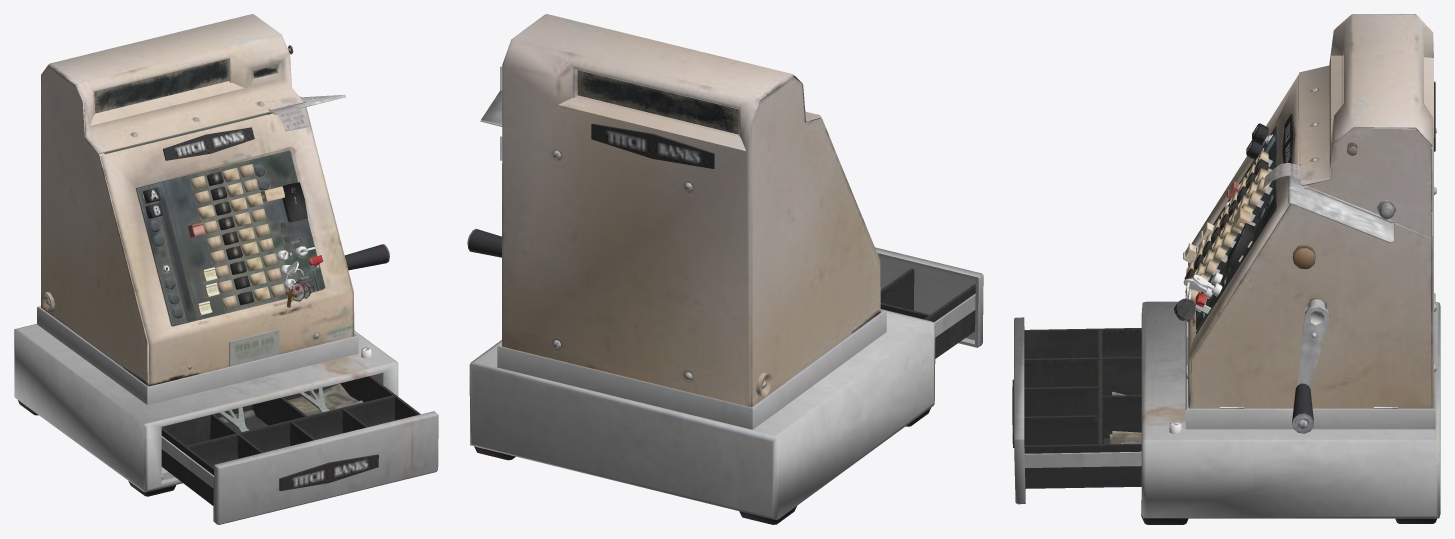
Rendered from cashregister_01.glb.
3 views of the same model, side by side, from view 1: azimuth 30°, elevation 25°; view 2: azimuth 150°, elevation 25°; view 3: azimuth 270°, elevation 25° (orthographic). The views are drawn at different scales.
Visible parts, largest first — view 1: CashRegister_01_body, CashRegister_011_drawer; view 2: CashRegister_01_body, CashRegister_011_drawer; view 3: CashRegister_01_body, CashRegister_011_drawer.
Part boxes in pixels (x1,y1,x2,y2): CashRegister_01_body: (14,14,398,496); CashRegister_011_drawer: (161,376,438,524); CashRegister_01_body: (467,14,935,524); CashRegister_011_drawer: (875,247,983,358); CashRegister_01_body: (1141,14,1440,524); CashRegister_011_drawer: (1012,317,1141,504).
Bounding box in the file's own units: 0.6005 × 0.6211 × 0.6242.
2 materials, 2 textured.
